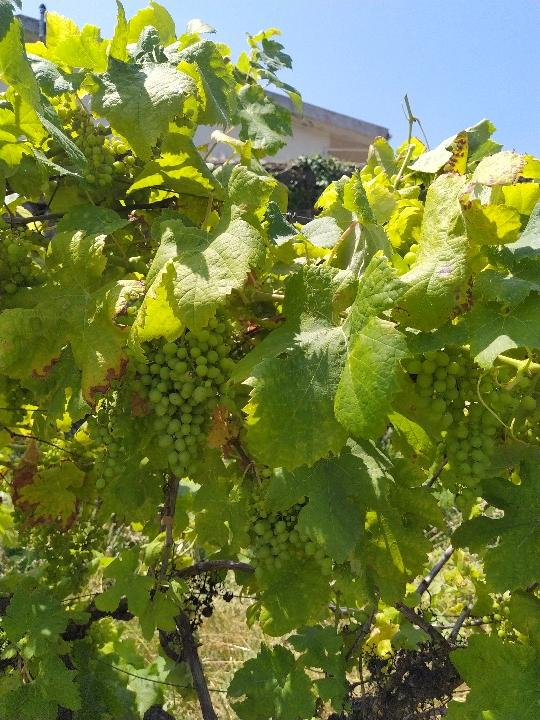grape: (404, 348, 538, 510), (134, 302, 239, 479), (248, 484, 335, 582)
